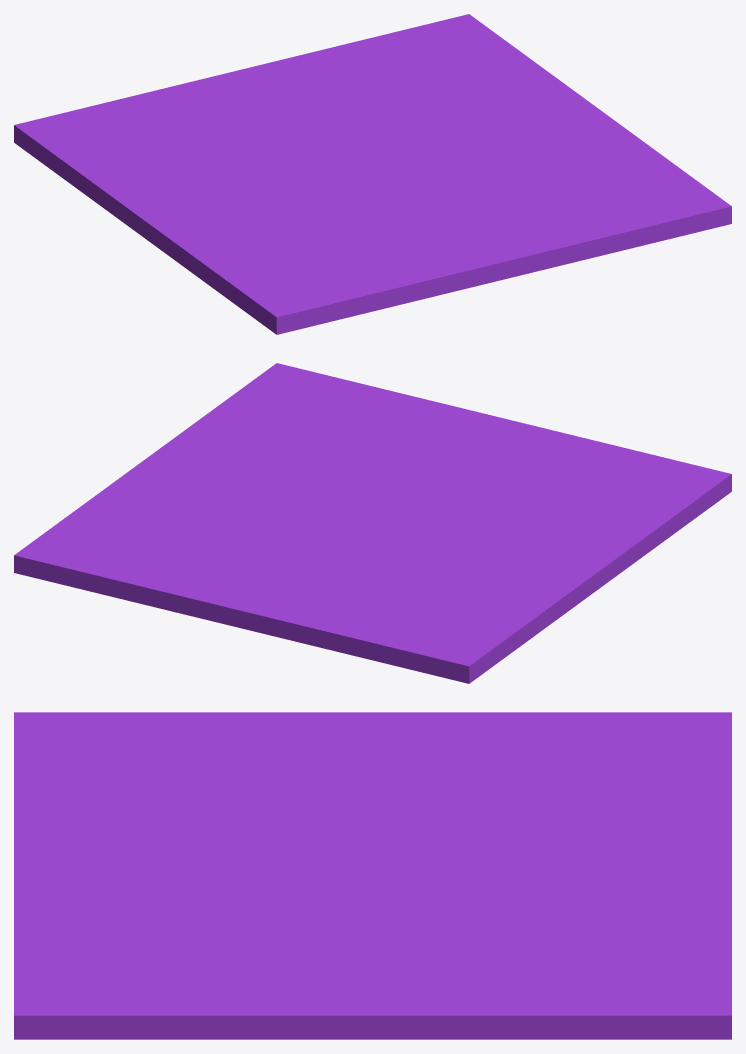
The model's file is Platform_54_chunks.fbx.
The picture shows the model from 3 angles, top to bottom: view 1: azimuth 30°, elevation 25°; view 2: azimuth 150°, elevation 25°; view 3: azimuth 270°, elevation 25°; orthographic projection. The views are drawn at different scales.
Visible parts, largest first — view 1: Platform_54_0, Platform_54_2, Platform_54_1, Platform_54_3, Platform_54_4, Platform_54_5, Platform_54_6; view 2: Platform_54_0, Platform_54_1, Platform_54_2, Platform_54_3, Platform_54_4, Platform_54_5, Platform_54_6; view 3: Platform_54_1, Platform_54_2, Platform_54_0, Platform_54_3, Platform_54_4, Platform_54_5, Platform_54_6.
Boxes of the visible parts, box(x1,y1,x2,y2) form: Platform_54_0: box(144, 170, 552, 334); Platform_54_2: box(368, 121, 731, 267); Platform_54_1: box(300, 14, 614, 158); Platform_54_3: box(14, 96, 221, 237); Platform_54_4: box(132, 55, 361, 145); Platform_54_5: box(165, 139, 375, 221); Platform_54_6: box(164, 112, 248, 160); Platform_54_0: box(385, 411, 731, 588); Platform_54_1: box(14, 448, 356, 617); Platform_54_2: box(160, 363, 474, 516); Platform_54_3: box(346, 563, 605, 683); Platform_54_4: box(183, 532, 393, 653); Platform_54_5: box(324, 514, 590, 572); Platform_54_6: box(367, 570, 438, 617); Platform_54_1: box(293, 870, 731, 1039); Platform_54_2: box(14, 858, 390, 1039); Platform_54_0: box(14, 712, 363, 883); Platform_54_3: box(359, 712, 731, 796); Platform_54_4: box(455, 791, 731, 902); Platform_54_5: box(359, 721, 512, 876); Platform_54_6: box(489, 791, 665, 815).
Size of the model in its own units: 810 by 29.87 by 810.
